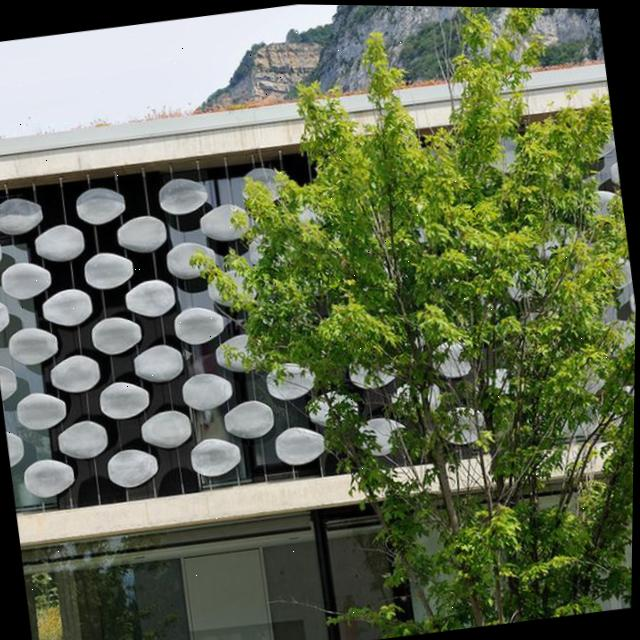building: (0, 31, 640, 567)
